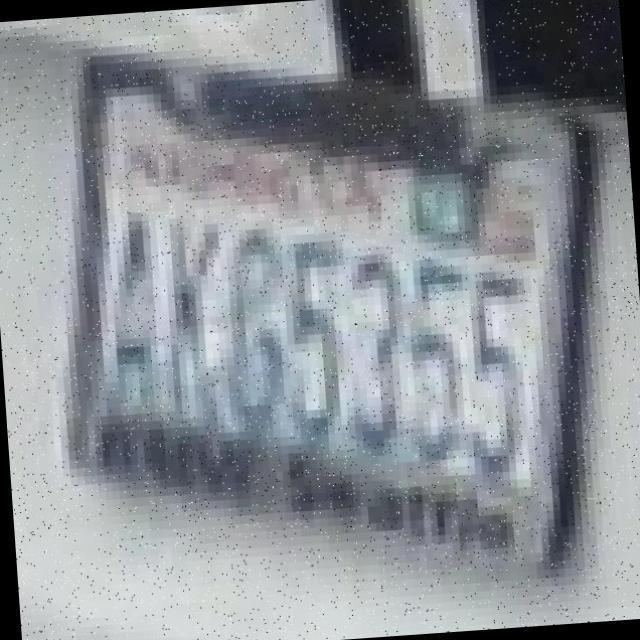License Plate: (69, 2, 599, 590)
